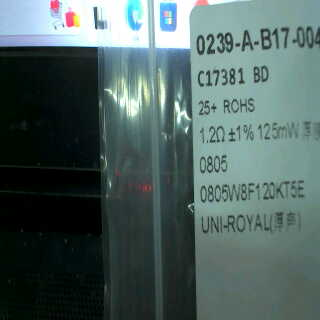1.2R: (198, 126, 230, 174)
